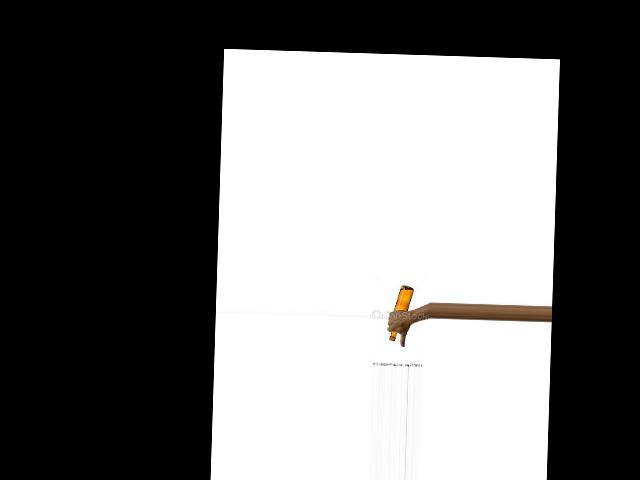beer: (389, 285, 414, 341)
